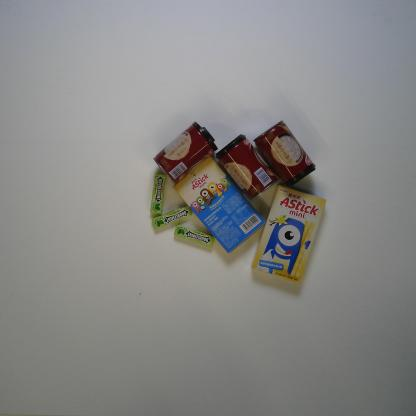Canned Food: (214, 133, 278, 201), (253, 120, 316, 188), (153, 121, 218, 185)
Dessert: (172, 155, 267, 254), (250, 184, 327, 284)
Gum: (151, 204, 193, 230), (174, 224, 216, 248), (150, 173, 167, 214)
